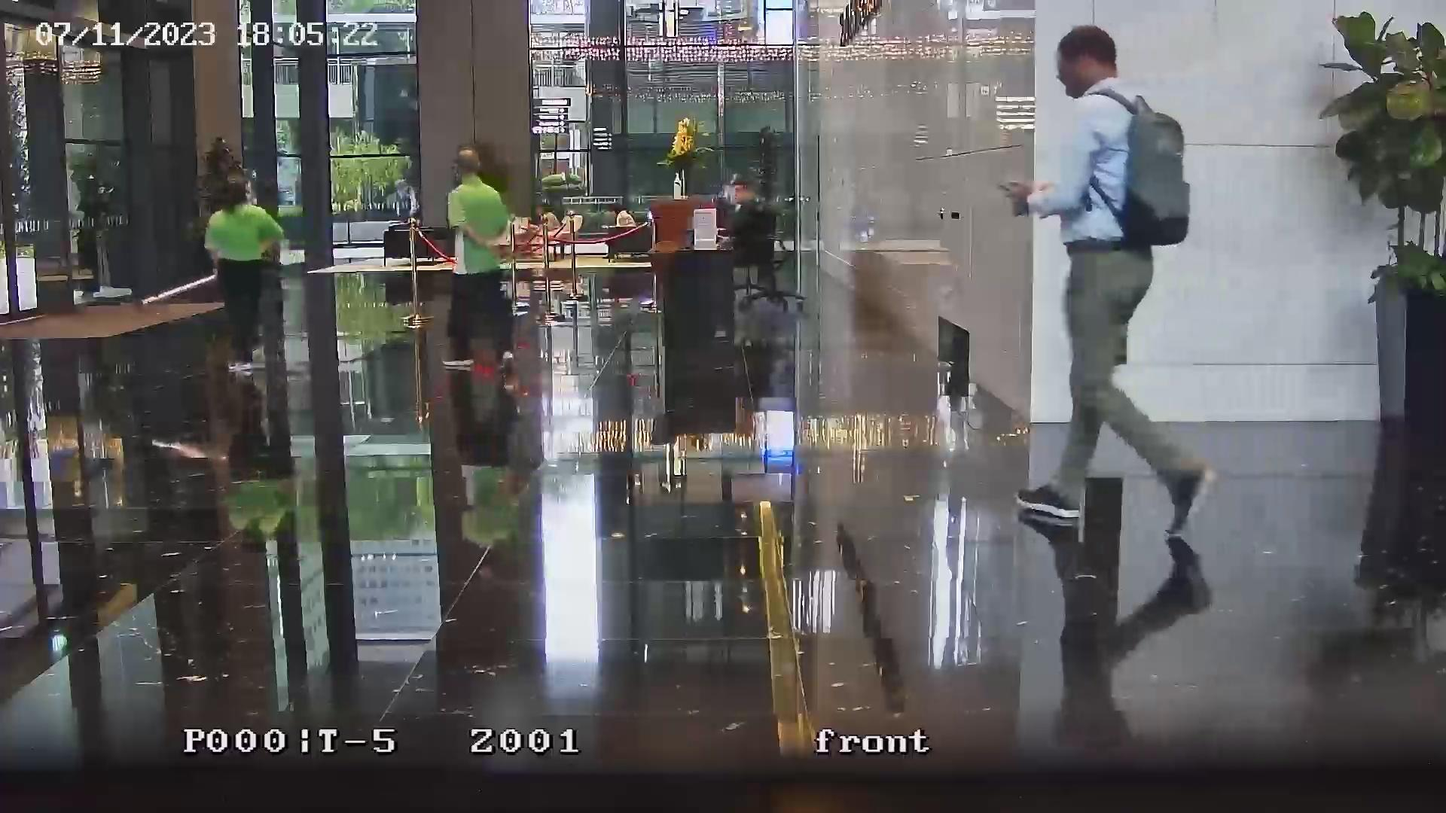person: (999, 23, 1216, 553), (445, 144, 517, 374), (204, 172, 285, 370), (728, 178, 765, 261), (605, 203, 636, 260)
